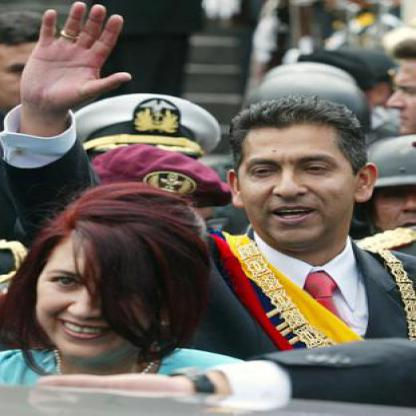face: (38, 215, 167, 362), (237, 105, 360, 249)
